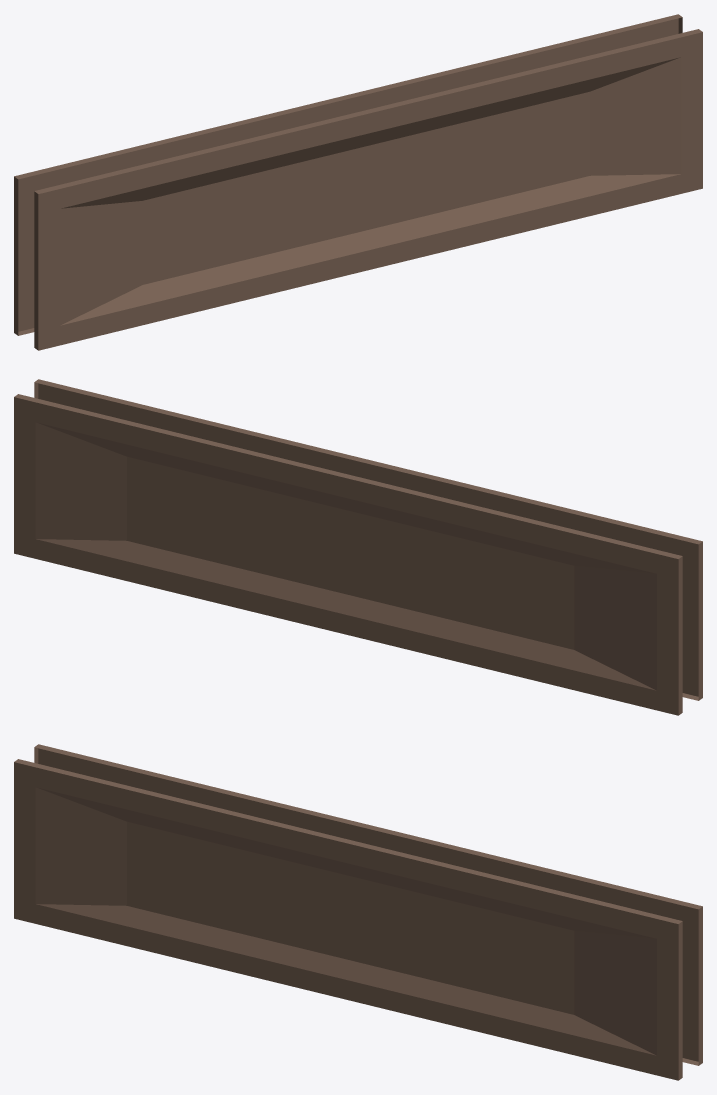
The model's file is Wall_top.fbx.
The picture shows the model from 3 angles, top to bottom: view 1: azimuth 30°, elevation 25°; view 2: azimuth 150°, elevation 25°; view 3: azimuth 330°, elevation 25°; orthographic projection.
Visible parts, largest first — view 1: Wall top; view 2: Wall top; view 3: Wall top.
Part boxes in pixels (x1,y1,x2,y2): Wall top: (14, 14, 702, 350); Wall top: (14, 379, 702, 715); Wall top: (14, 744, 702, 1080).
Size of the model in its own units: 371 by 83.55 by 23.64.
